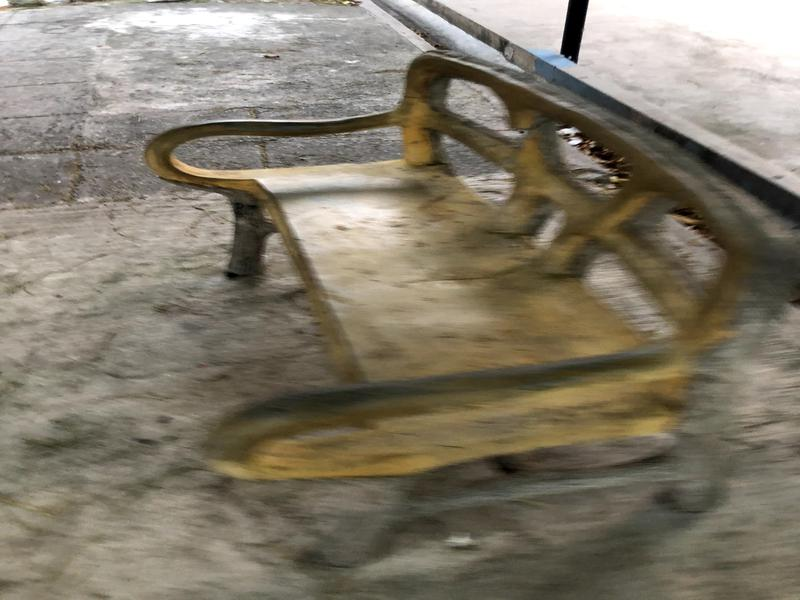18.0050864_-76.7496363_bench: (128, 47, 800, 579)
